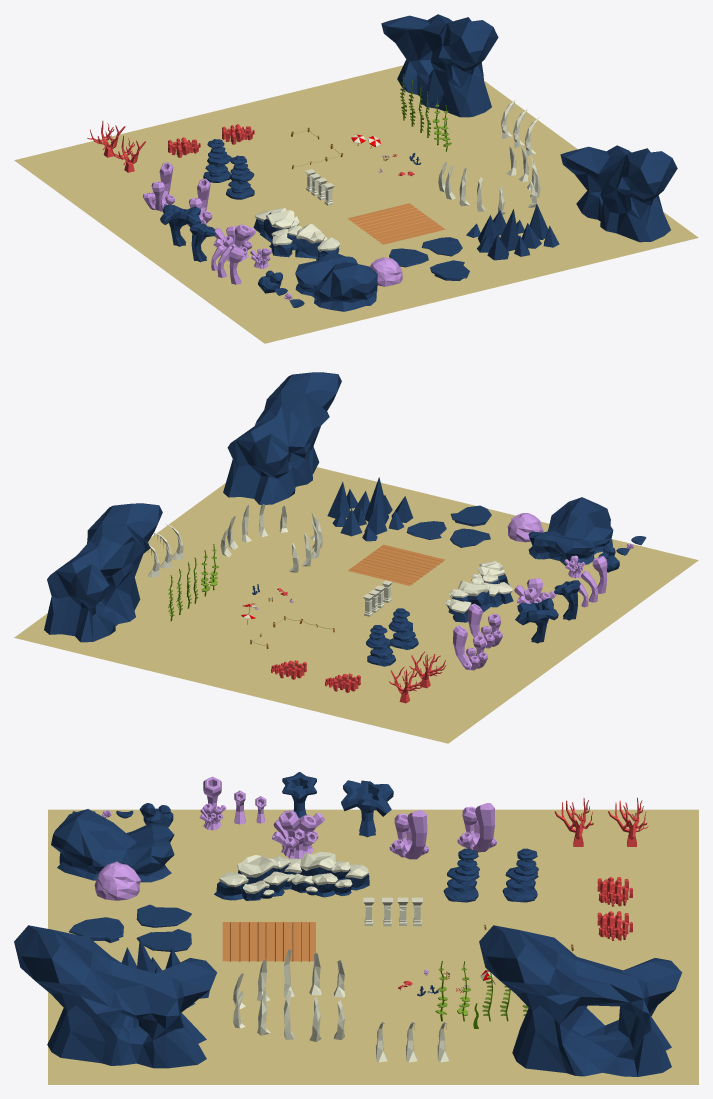
The model's file is environmentAssetsLosXpV1.fbx.
The picture shows the model from 3 angles, top to bottom: view 1: azimuth 30°, elevation 25°; view 2: azimuth 150°, elevation 25°; view 3: azimuth 270°, elevation 25°; orthographic projection. The views are drawn at different scales.
Parts seen in each view (by area): view 1: pCube1, pCube344, pCube343, pCube298, pCone13, pCube2, pCube254, pCylinder50, pCube281, pCylinder48, pCube168, pSphere1 (+6 smaller); view 2: pCube1, pCube344, pCube343, pCube298, pCone13, pCube2, pCylinder50, pCube168, pCube254, polySurface53, pCube281, pSphere1 (+5 smaller); view 3: pCube1, pCube344, pCube343, pCube298, pCube2, pCube254, pCylinder50, pCylinder48, pCube168, polySurface53, pSphere1, pCube281 (+13 smaller).
Part boxes in pixels (bbox=[...]): pCube1: bbox=[14, 65, 698, 343]; pCube344: bbox=[381, 14, 498, 117]; pCube343: bbox=[560, 145, 677, 242]; pCube298: bbox=[295, 252, 377, 311]; pCone13: bbox=[466, 204, 559, 260]; pCube2: bbox=[348, 203, 445, 244]; pCube254: bbox=[271, 223, 340, 260]; pCylinder50: bbox=[160, 205, 201, 246]; pCube281: bbox=[226, 155, 254, 199]; pCylinder48: bbox=[213, 224, 255, 261]; pCube168: bbox=[506, 147, 540, 207]; pSphere1: bbox=[370, 257, 402, 286]; pCube1: bbox=[14, 467, 698, 743]; pCube344: bbox=[44, 503, 162, 642]; pCube343: bbox=[223, 372, 341, 504]; pCube298: bbox=[528, 497, 613, 565]; pCone13: bbox=[327, 477, 413, 541]; pCube2: bbox=[347, 544, 445, 585]; pCylinder50: bbox=[515, 598, 558, 643]; pCube168: bbox=[220, 504, 287, 556]; pCube254: bbox=[471, 560, 513, 603]; polySurface53: bbox=[468, 603, 502, 648]; pCube281: bbox=[388, 608, 418, 649]; pSphere1: bbox=[507, 513, 543, 542]; pCube1: bbox=[48, 809, 698, 1084]; pCube344: bbox=[479, 925, 682, 1076]; pCube343: bbox=[14, 925, 216, 1068]; pCube298: bbox=[51, 809, 174, 882]; pCube2: bbox=[222, 922, 315, 961]; pCube254: bbox=[214, 855, 295, 900]; pCylinder50: bbox=[341, 780, 393, 837]; pCylinder48: bbox=[272, 810, 324, 858]; pCube168: bbox=[233, 989, 344, 1041]; polySurface53: bbox=[389, 810, 428, 859]; pSphere1: bbox=[94, 861, 140, 900]; pCube281: bbox=[443, 848, 479, 902].
Bounding box in the file's own units: 430 × 99.58 × 453.
